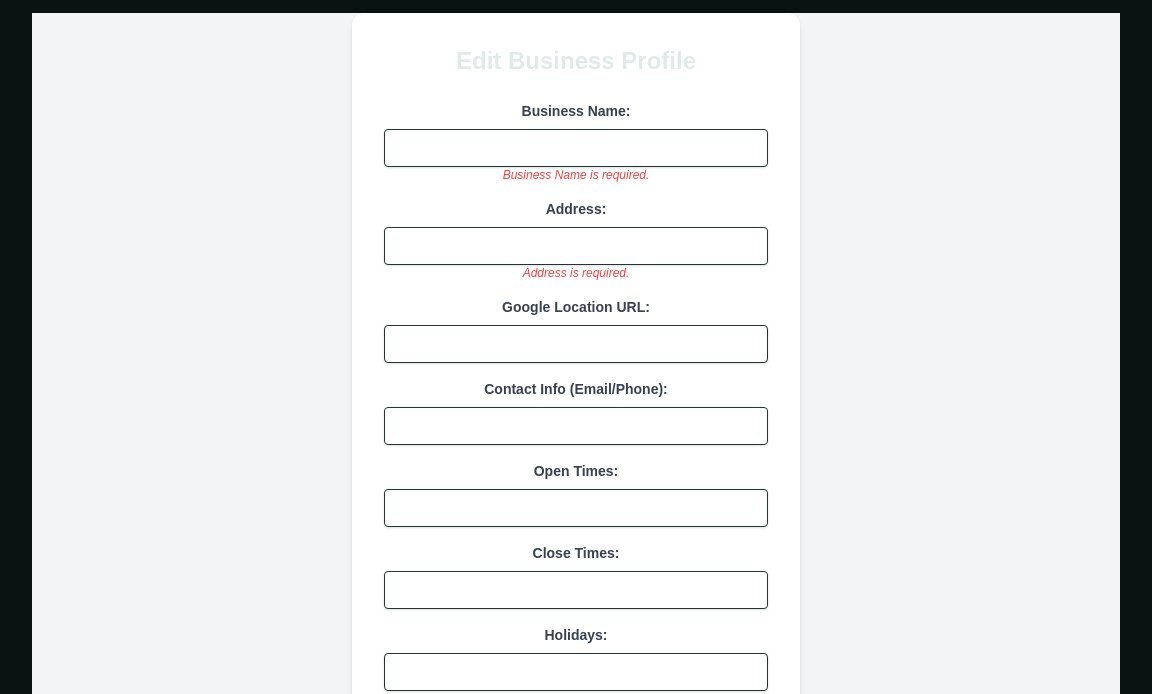
EditBusinessProfile › handles submission error
This screenshot has width=1152, height=694.
In the field labelled "Business Name:": (576, 148) [384,129,768,167], type "Test Business"
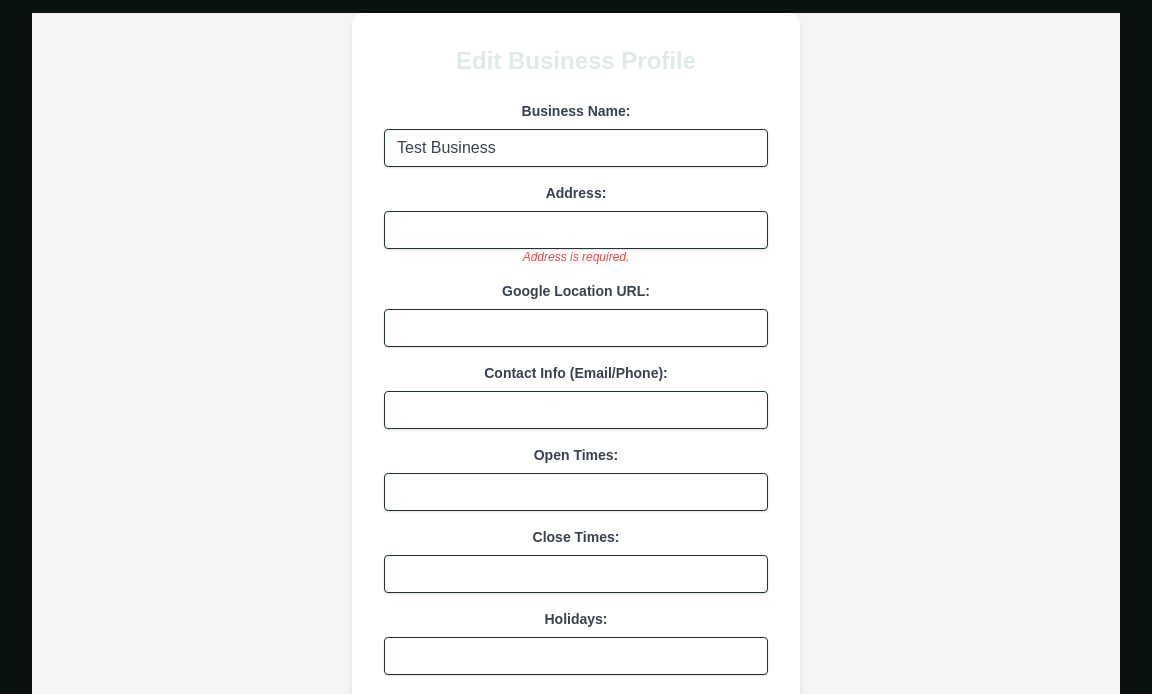
In the field labelled "Address:": (576, 230) [384,211,768,249], type "123 Test St"
(page scrolled)
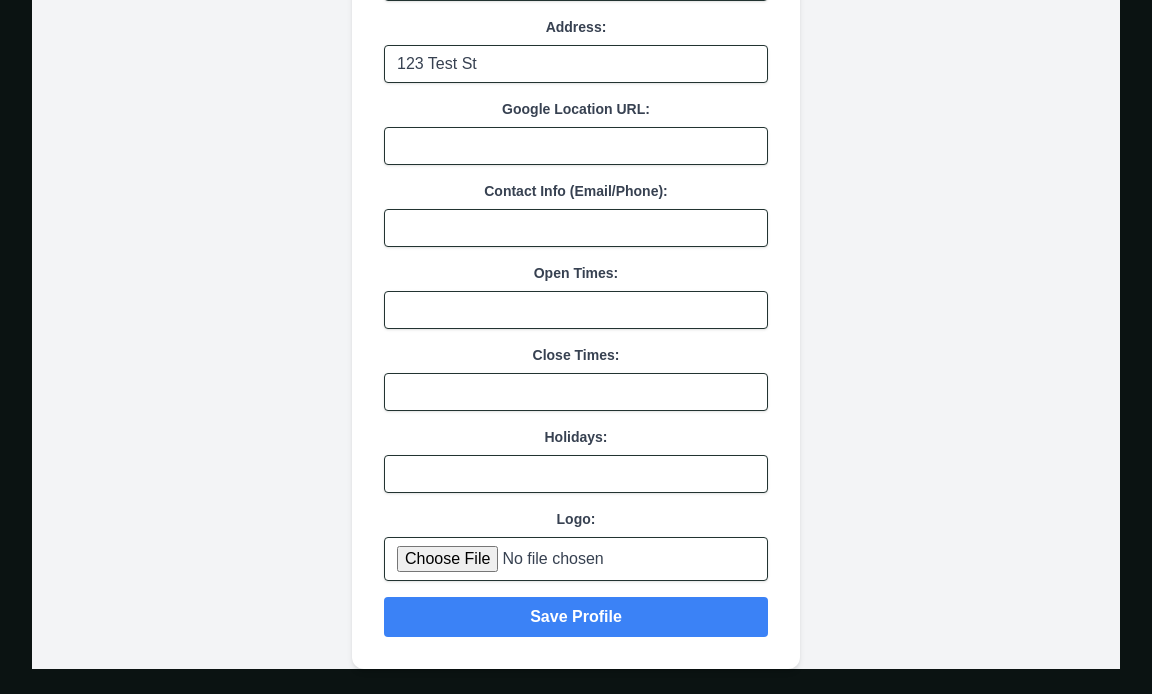
Click the button "Save Profile": (576, 617) [384,597,768,637]
(page scrolled)
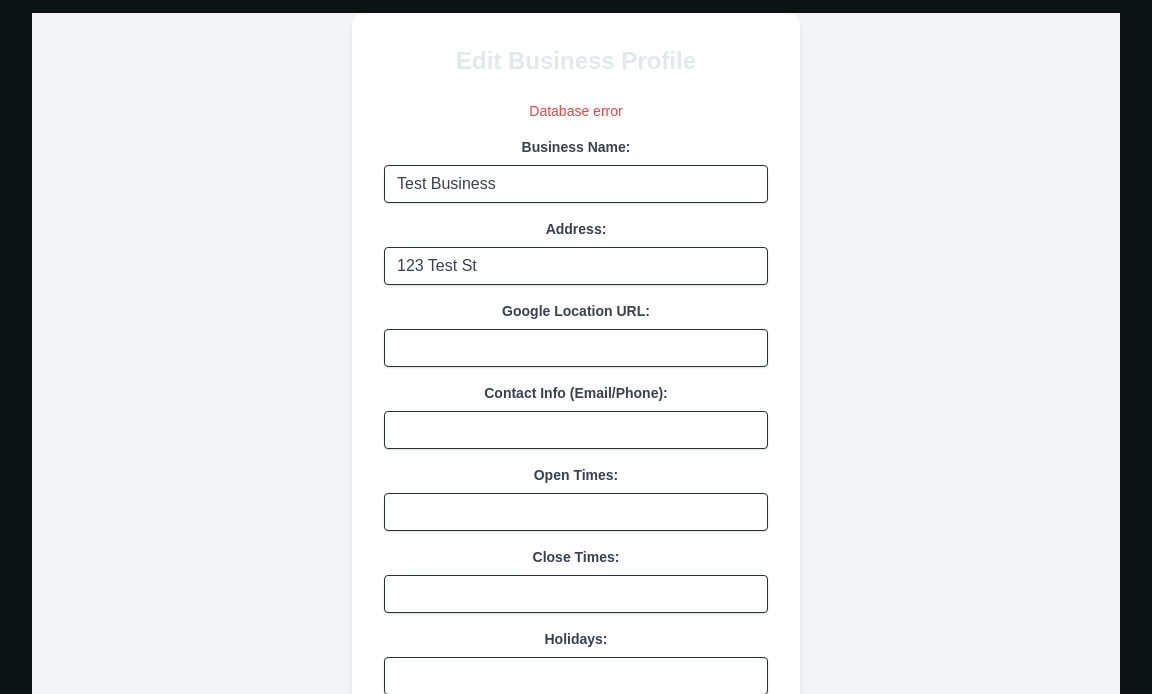
Result: the text "Database error" is shown at [529,103,623,119]
